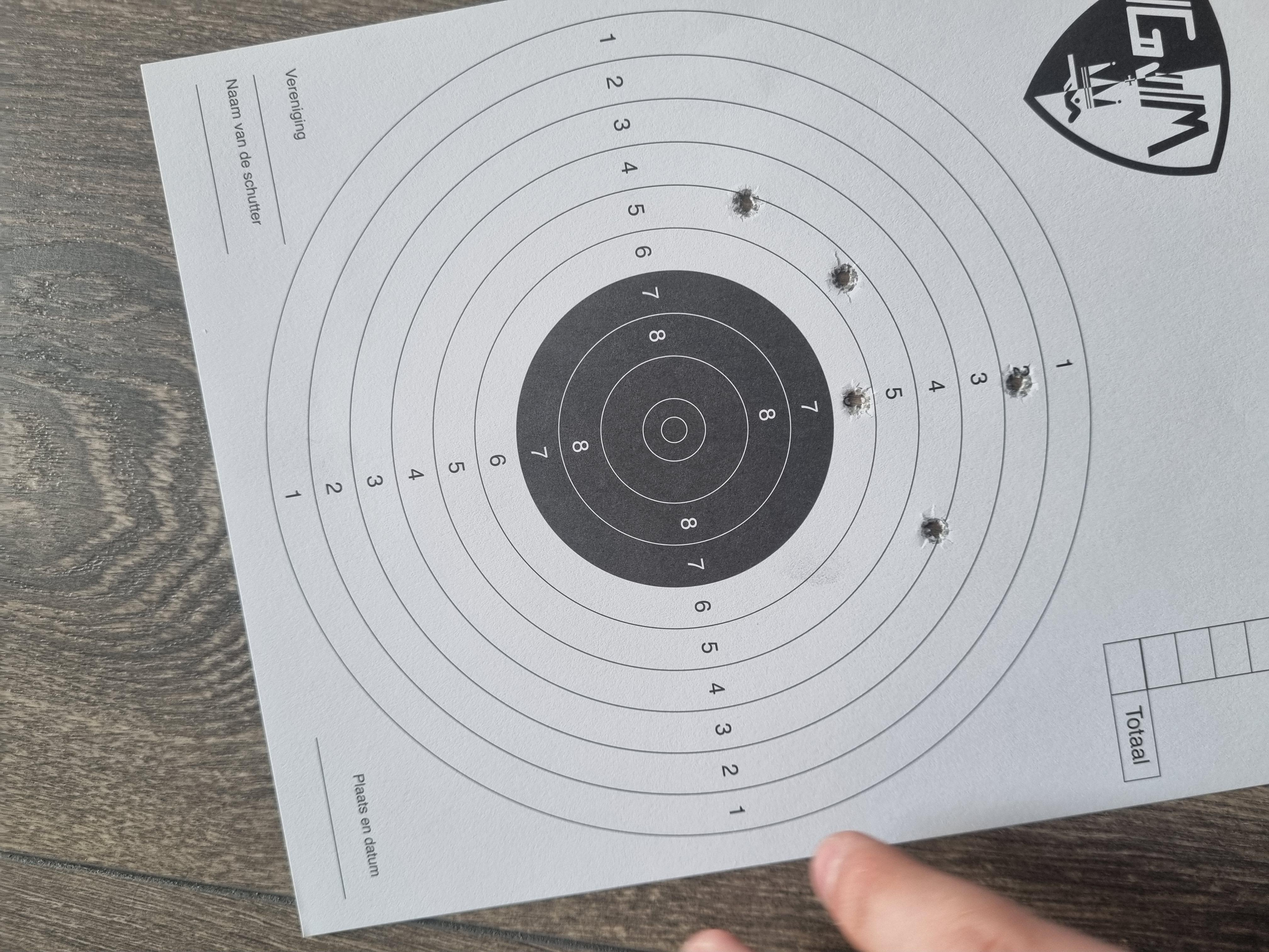hole: (865, 621, 934, 644), (541, 688, 595, 713), (735, 751, 785, 776), (711, 631, 763, 655), (977, 548, 1019, 572)
